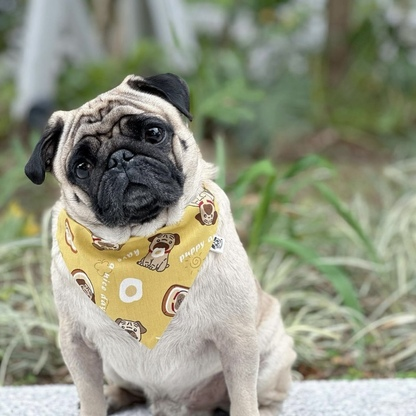Pug: (22, 70, 302, 416)
